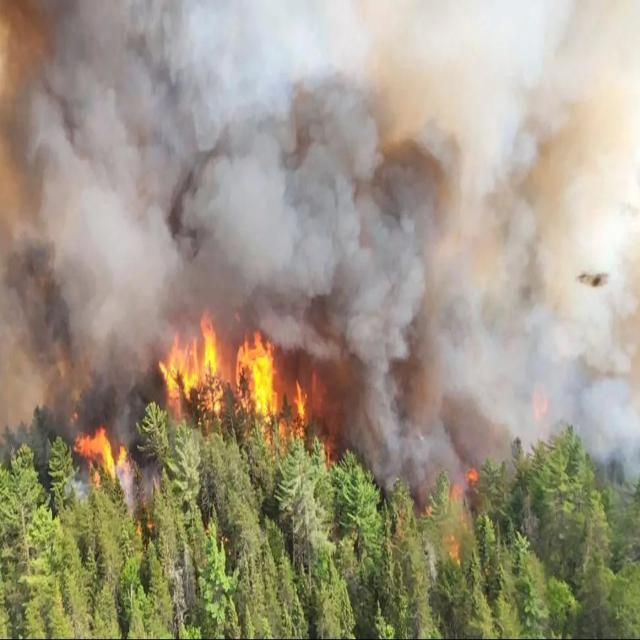Fire: (158, 300, 294, 422)
Smoke: (0, 0, 640, 488)
